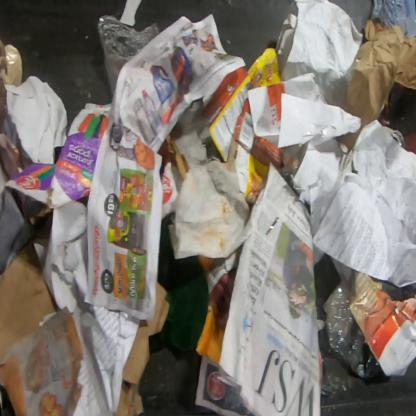cardboard: (200, 47, 298, 206), (4, 102, 112, 209), (0, 204, 57, 362), (113, 279, 171, 415)
metal: (382, 126, 405, 149)
rigid_plastic: (322, 284, 384, 378)
soft_plastic: (97, 15, 162, 102)
